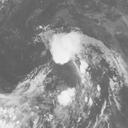cyclone: (48, 31, 84, 65)
